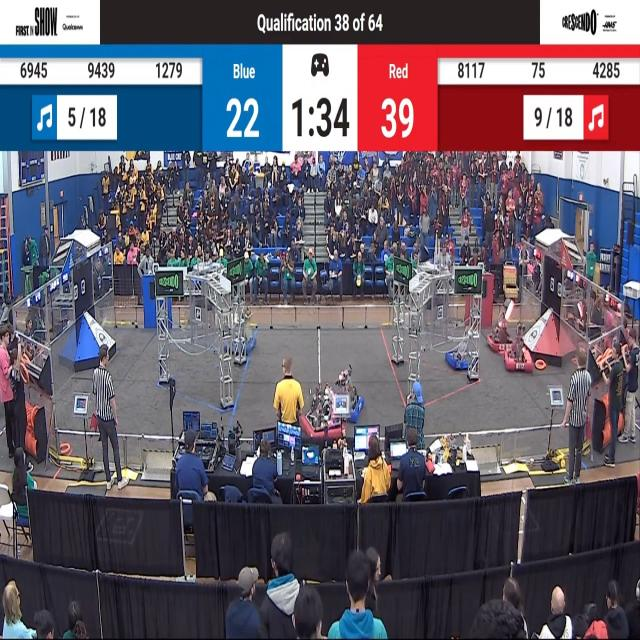Robot: (304, 377, 343, 441), (221, 295, 260, 359), (487, 293, 518, 357), (336, 360, 366, 424), (504, 316, 532, 377), (446, 325, 478, 370)
